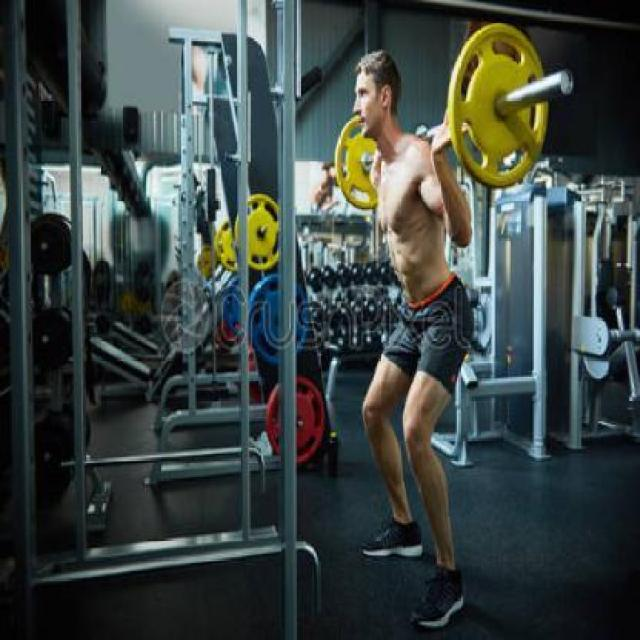barbell: (444, 23, 577, 196)
